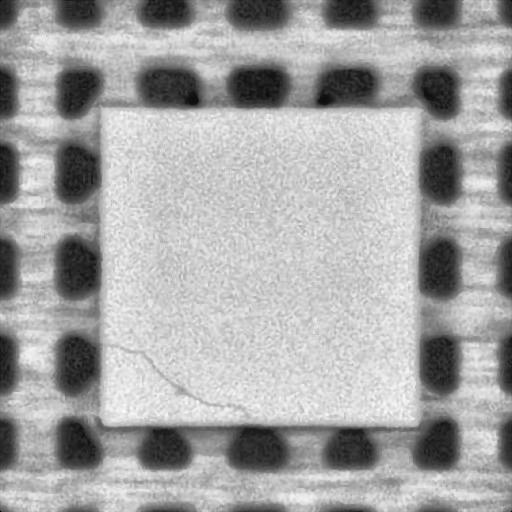DIE_CRACK: (106, 343, 248, 408)
